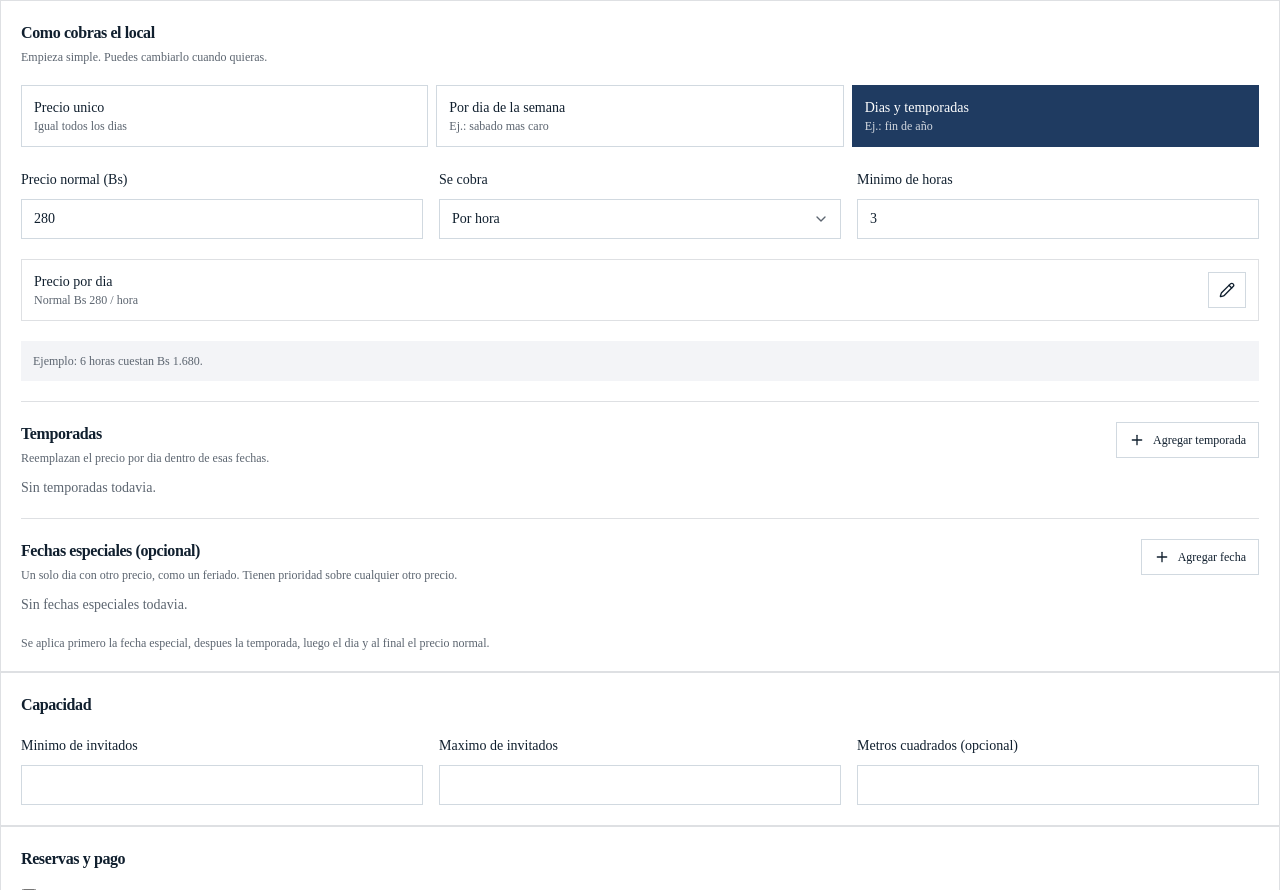
Scenario: VenuePricingSection › completa la temporada con una sugerencia
Click the button "Agregar temporada".
click(1188, 440)  # box [1116, 422, 1259, 458]
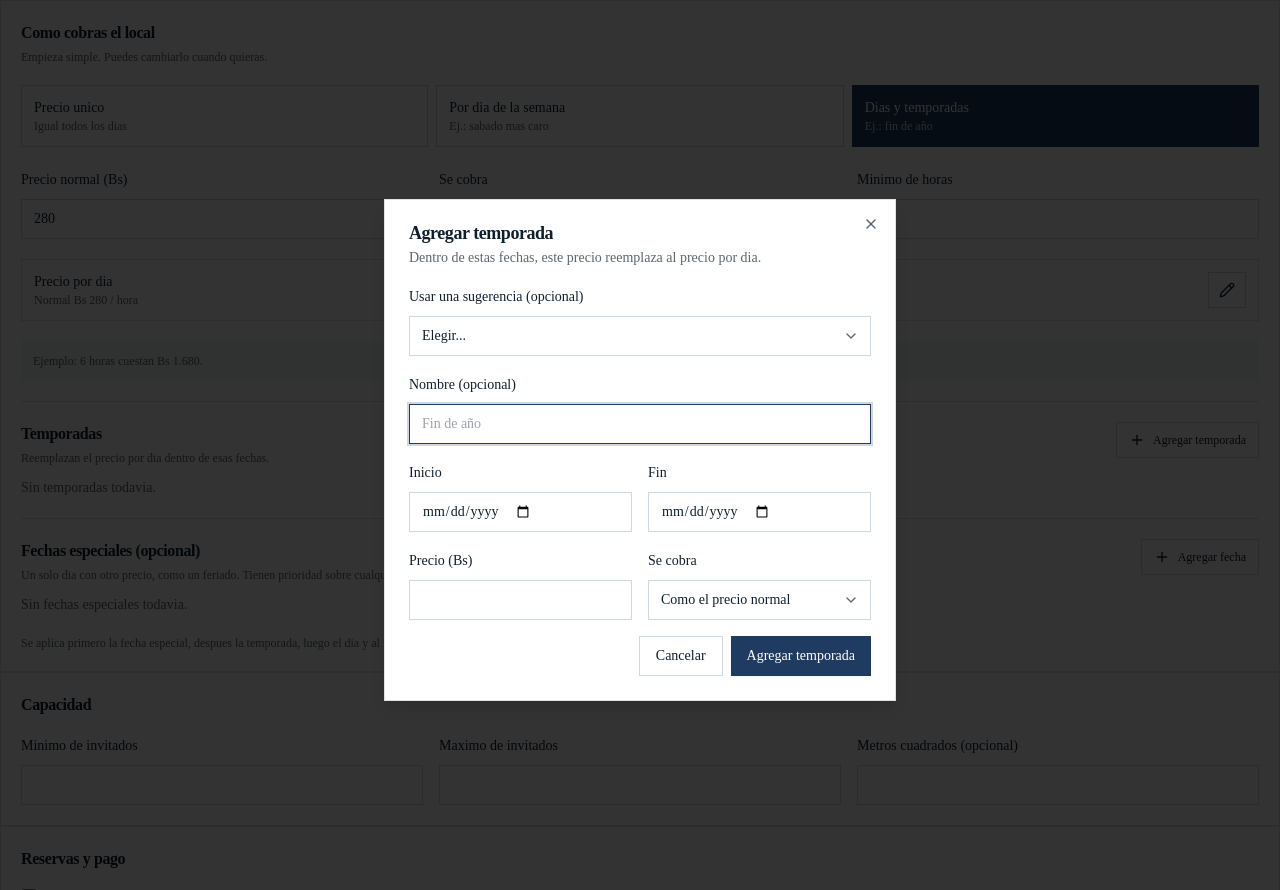
Select "Carnaval" in the dropdown labelled "Usar una sugerencia (opcional)" at (640, 336), box [409, 316, 871, 356]
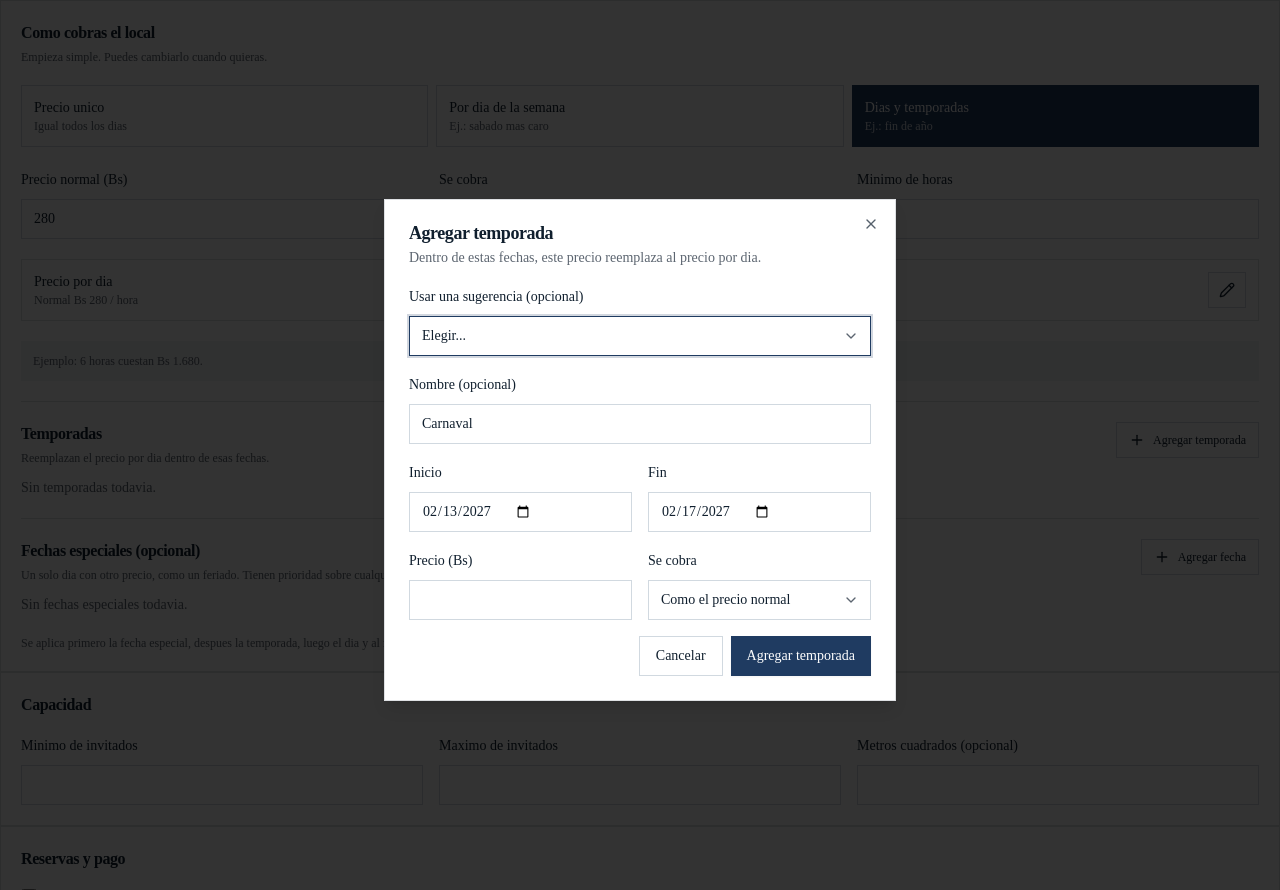
Now the field labelled "Nombre (opcional)" holds "Carnaval", box [409, 404, 871, 444]
Now the date field labelled "Inicio" holds "2027-02-13", box [409, 492, 632, 532]
Now the date field labelled "Fin" holds "2027-02-17", box [648, 492, 871, 532]
